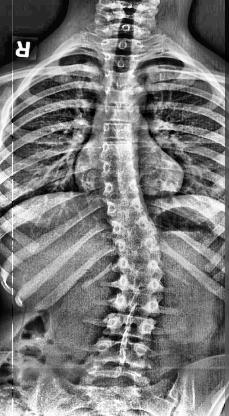Vertebrae: (90, 336, 150, 366), (85, 366, 144, 394), (100, 312, 154, 340), (115, 290, 159, 315), (118, 274, 162, 296), (118, 254, 164, 274), (111, 212, 153, 233), (104, 178, 144, 198), (114, 234, 158, 252), (107, 199, 146, 219), (103, 158, 141, 176), (104, 51, 138, 71), (101, 36, 143, 52), (105, 142, 141, 160), (103, 122, 139, 140), (105, 67, 137, 84), (105, 86, 135, 104), (102, 104, 136, 119)
